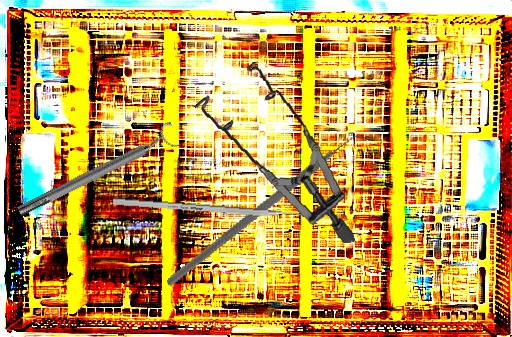Chopper: (165, 86, 378, 336)
Fixation Ring: (12, 120, 183, 224)
Pusher: (112, 197, 323, 221)
Speculum: (191, 54, 355, 256)
